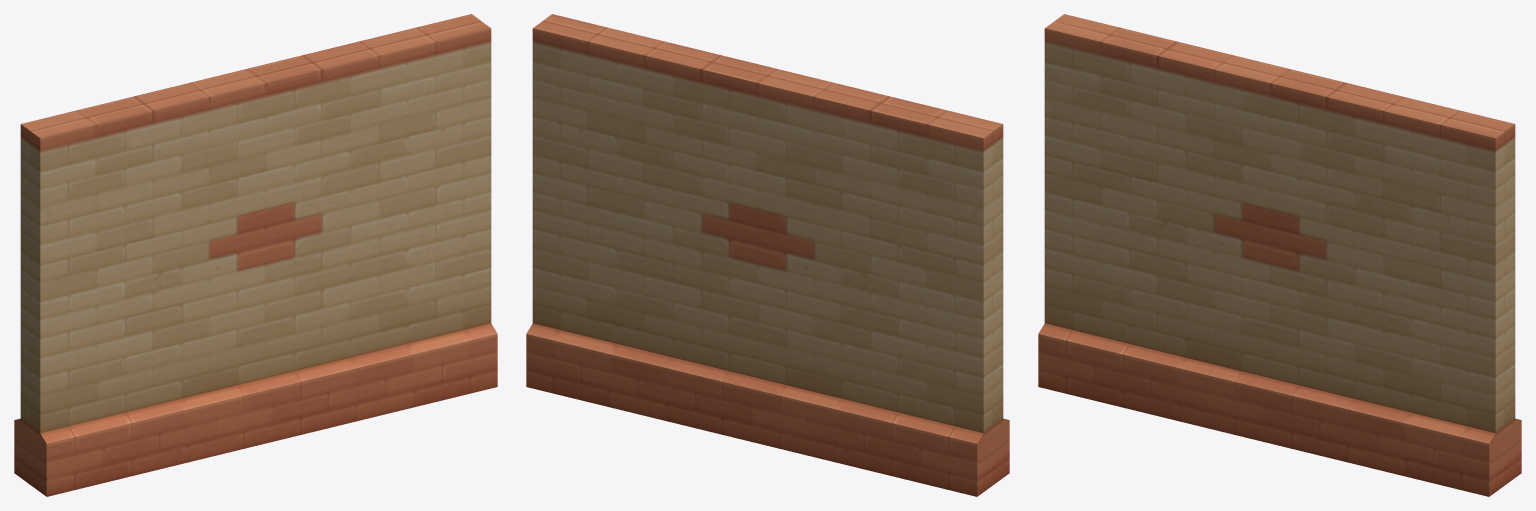
Rendered from Fence_2.FBX.
The picture shows the model from 3 angles, left to right: view 1: azimuth 30°, elevation 25°; view 2: azimuth 150°, elevation 25°; view 3: azimuth 330°, elevation 25°; orthographic projection.
Parts seen in each view (by area): view 1: Fence_2; view 2: Fence_2; view 3: Fence_2.
Part boxes in pixels (left/top/right/bottom): Fence_2: left=14, top=14, right=497, bottom=496; Fence_2: left=526, top=14, right=1009, bottom=496; Fence_2: left=1038, top=14, right=1521, bottom=496.
Size of the model in its own units: 400 by 300 by 50.
